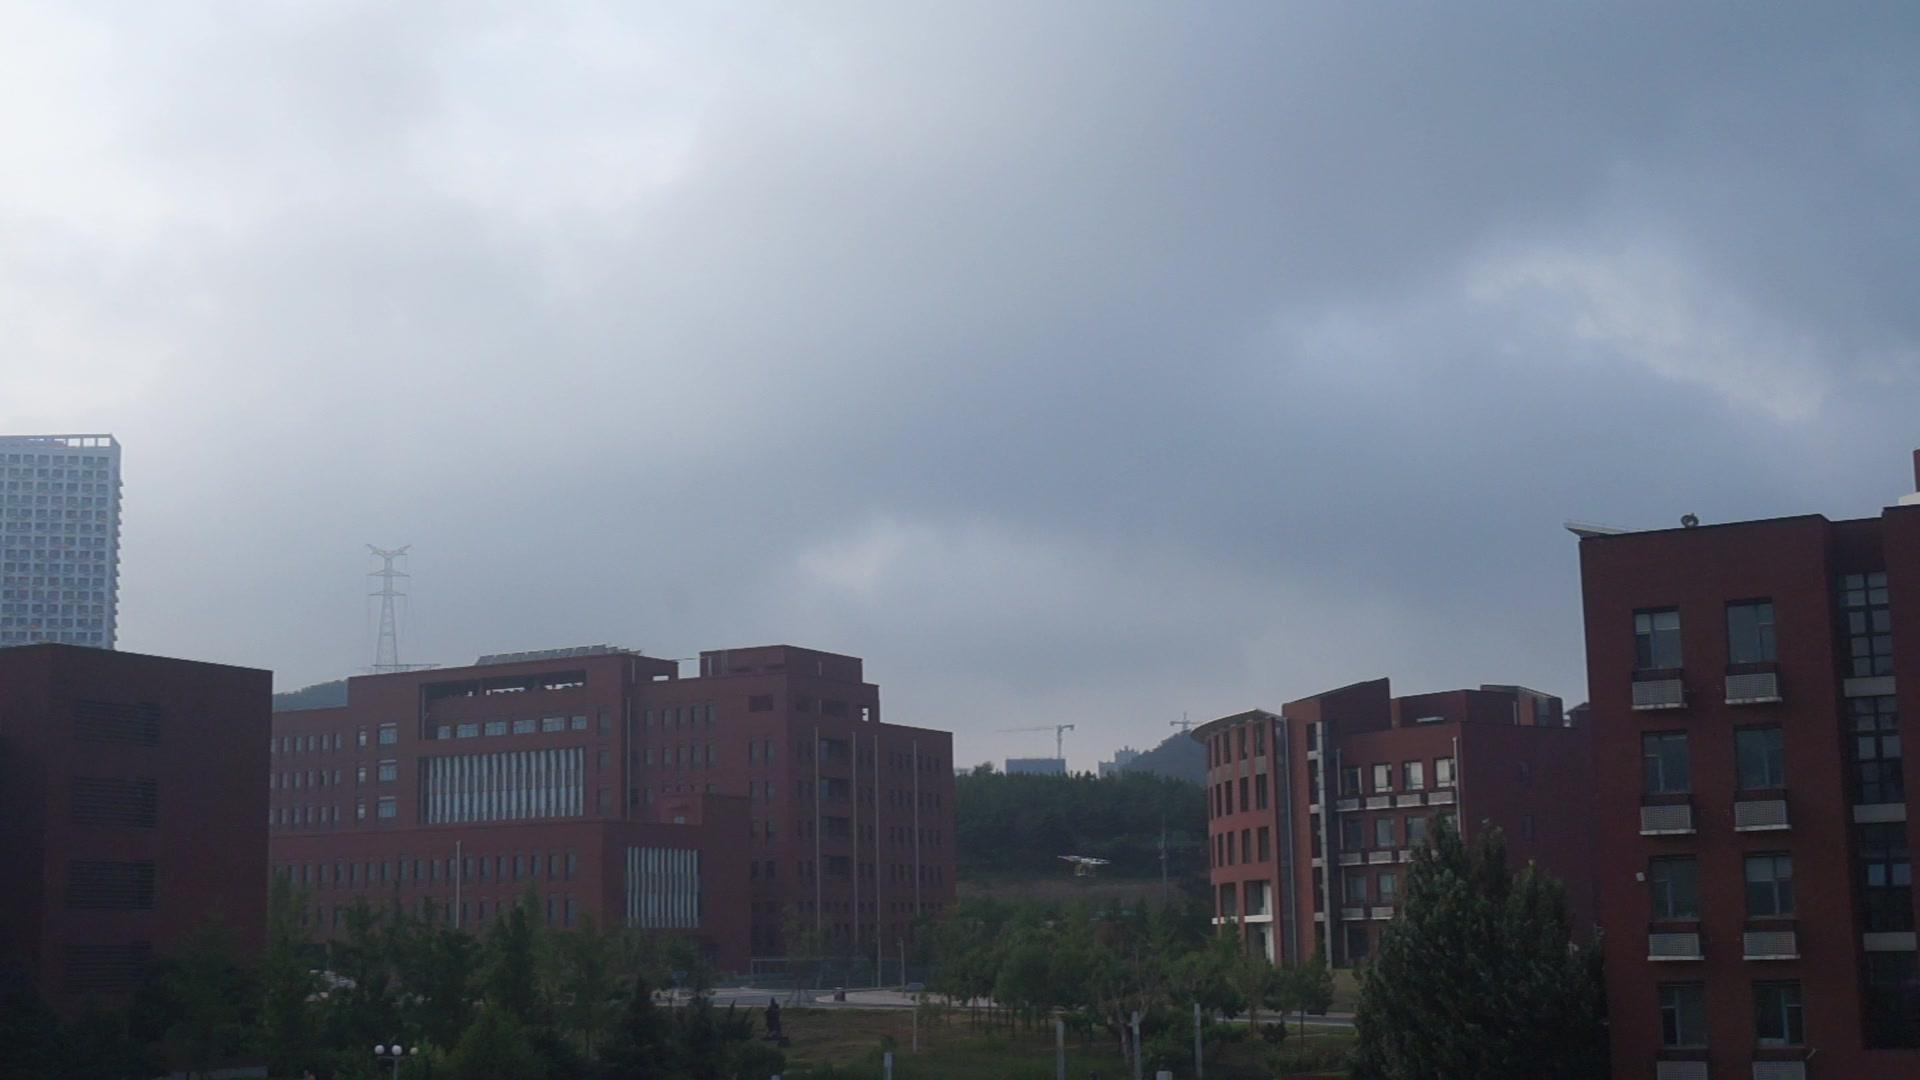UAV: (1058, 855, 1112, 880)
